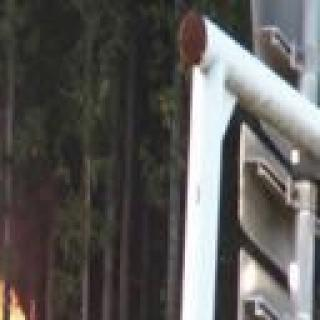fire: (0, 134, 41, 320)
